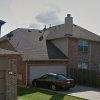Chimney: (60, 10, 74, 26)
